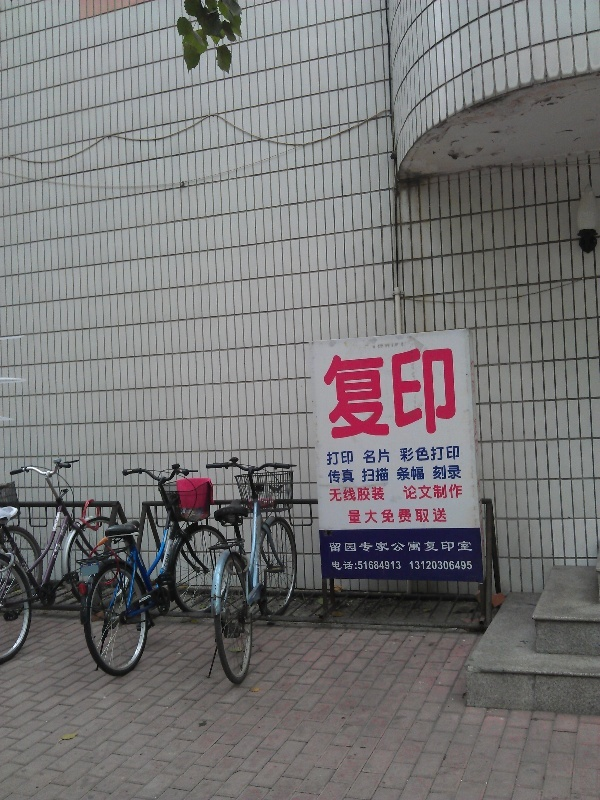text: (337, 345, 352, 439), (353, 345, 368, 439), (369, 345, 384, 439), (385, 345, 400, 439), (401, 345, 416, 439), (417, 345, 432, 439), (433, 345, 448, 439), (324, 345, 336, 439), (449, 345, 459, 439), (353, 507, 368, 526), (369, 507, 384, 526), (385, 507, 400, 526), (401, 507, 416, 526), (417, 507, 432, 526), (433, 507, 448, 526), (401, 445, 416, 463), (417, 445, 432, 463), (433, 445, 448, 463), (369, 487, 385, 502), (417, 484, 432, 500), (433, 484, 448, 500), (449, 484, 464, 500), (337, 450, 352, 466), (369, 467, 384, 483), (433, 465, 448, 481), (337, 487, 352, 502), (353, 487, 368, 502), (369, 449, 384, 464), (401, 466, 416, 481), (337, 469, 352, 483), (403, 484, 416, 500), (449, 465, 462, 481), (449, 445, 460, 463), (337, 541, 352, 554), (353, 541, 368, 554), (369, 541, 384, 554), (385, 541, 400, 554), (401, 541, 416, 554), (417, 541, 432, 554), (433, 541, 448, 554), (449, 541, 464, 554), (326, 450, 336, 466), (337, 561, 352, 571), (353, 561, 368, 571), (369, 561, 384, 571), (385, 561, 400, 571), (417, 561, 432, 570), (433, 561, 448, 570), (449, 561, 464, 570), (417, 466, 426, 481), (346, 507, 352, 526), (328, 469, 336, 483), (329, 487, 336, 502), (465, 541, 473, 554), (362, 467, 368, 483), (329, 541, 336, 554), (385, 449, 391, 464), (363, 449, 368, 464), (465, 561, 473, 570), (385, 467, 389, 483), (409, 561, 416, 570), (331, 561, 336, 571), (397, 466, 400, 481), (353, 469, 355, 483), (399, 445, 400, 463), (353, 450, 354, 466), (401, 561, 402, 571)
